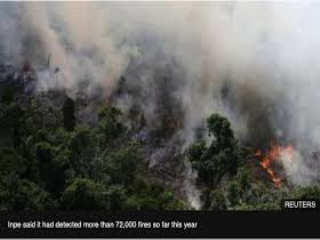fire: (257, 141, 293, 189)
smoke: (163, 86, 239, 209), (29, 56, 147, 121), (281, 95, 320, 195)
